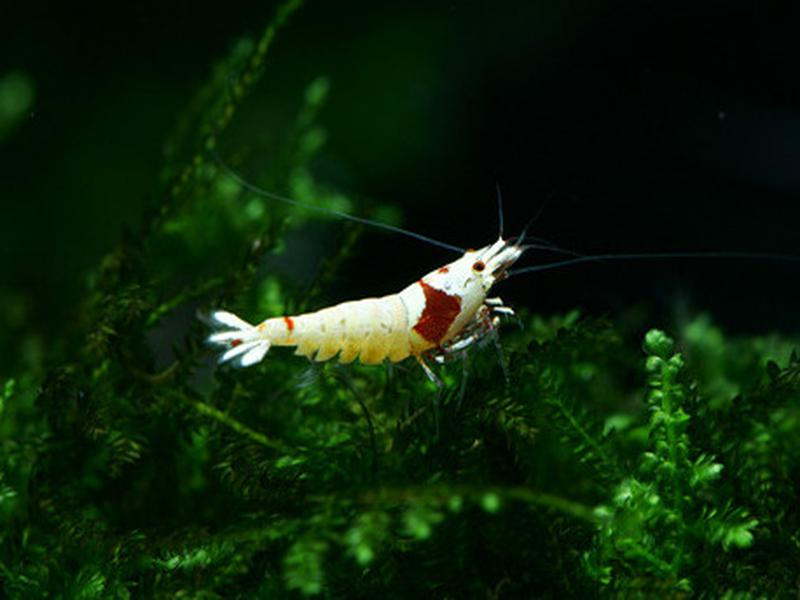shrimp: (205, 233, 526, 365)
